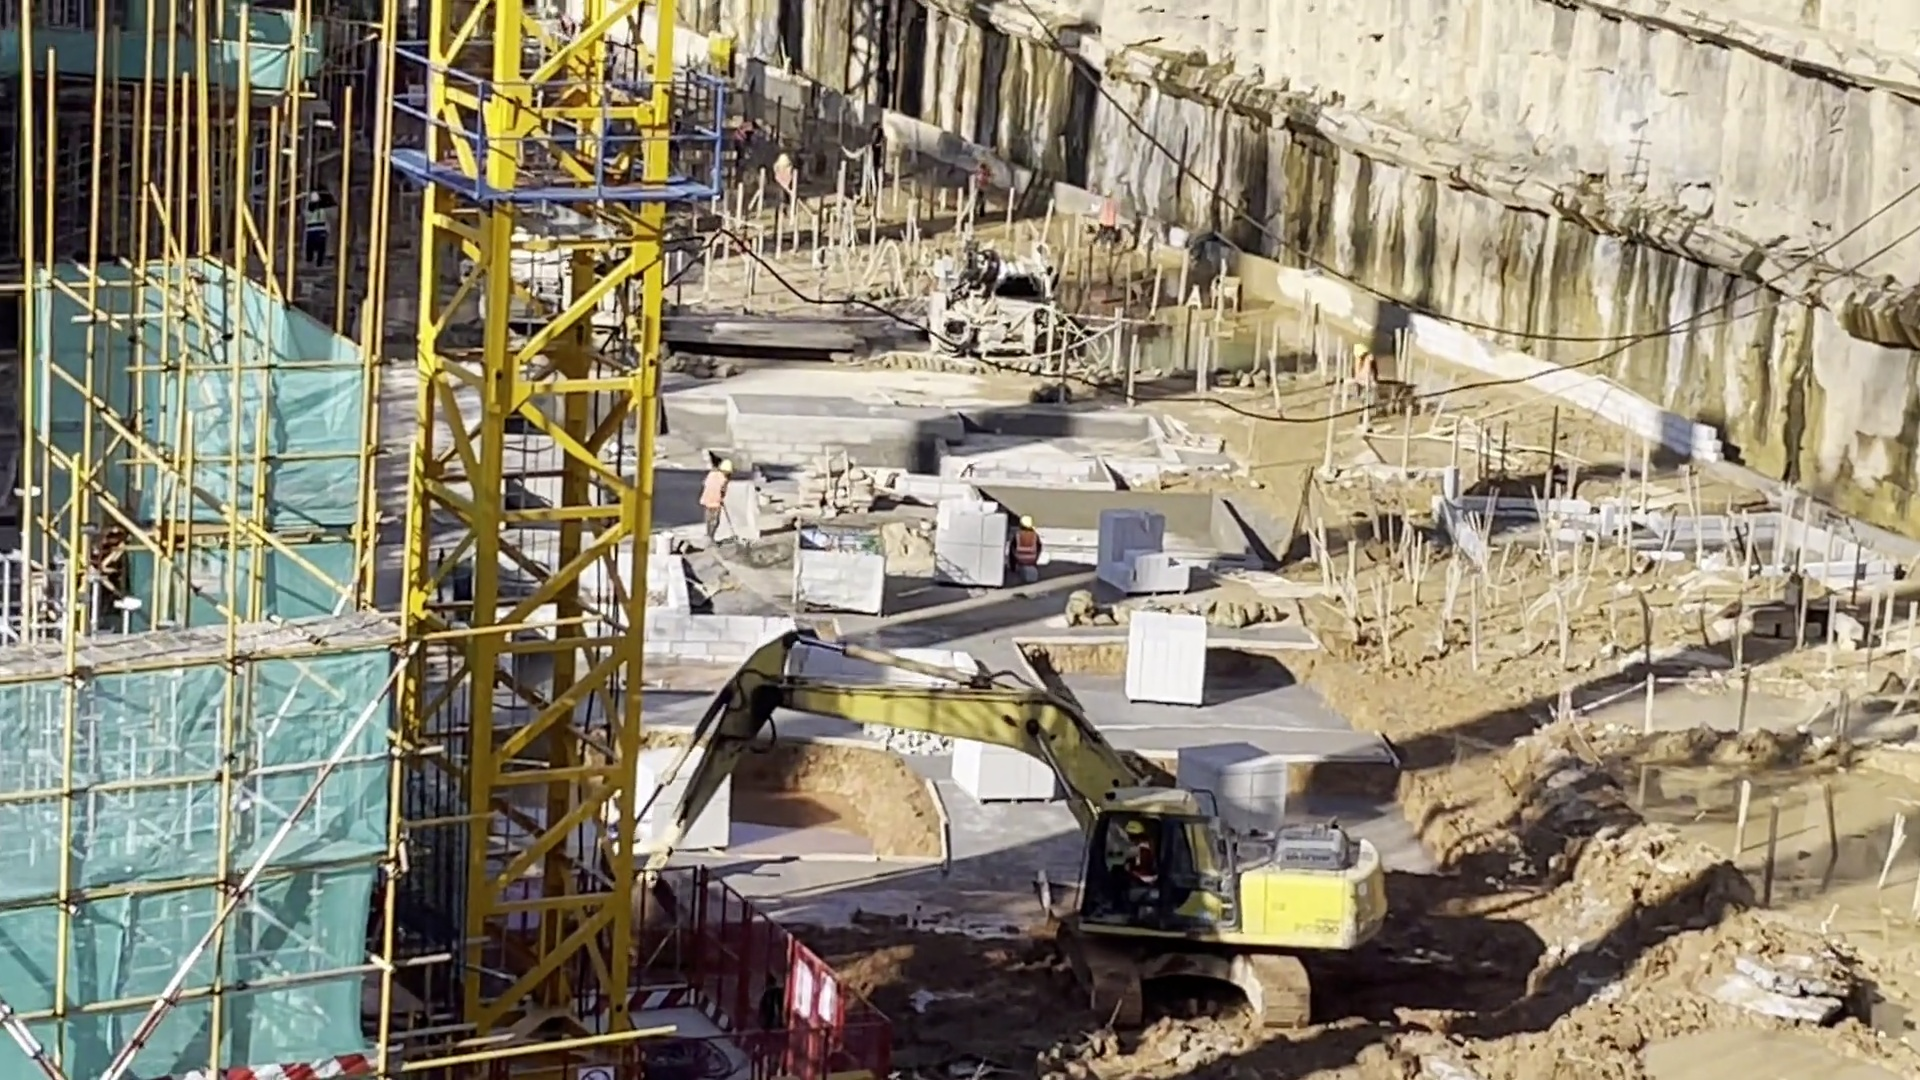helmet: (1128, 819, 1148, 834), (721, 459, 738, 476), (1015, 517, 1031, 530), (754, 117, 767, 129), (309, 189, 318, 205), (1354, 346, 1363, 356)
person: (1121, 823, 1167, 907), (1001, 511, 1048, 590), (695, 454, 736, 542), (1347, 340, 1380, 432), (723, 115, 766, 183), (300, 187, 334, 271), (863, 125, 887, 182), (967, 158, 990, 218), (1095, 187, 1116, 244)
vest: (703, 476, 725, 515), (1353, 361, 1381, 393), (1014, 532, 1034, 572), (303, 210, 327, 233), (974, 167, 992, 198), (732, 123, 753, 143), (1097, 199, 1113, 225), (870, 132, 881, 154)
